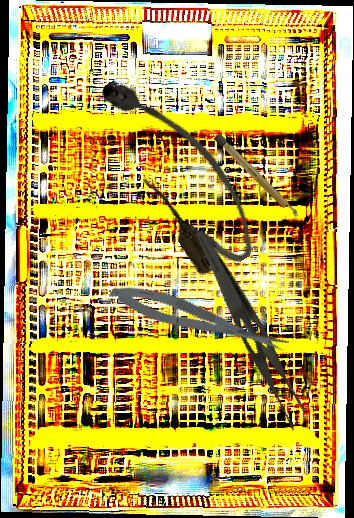Cannula: (87, 56, 270, 284)
Dressing Forceps: (174, 228, 320, 433)
Micro Scissor: (106, 275, 291, 365)
Scalpel Handle: (213, 133, 301, 220)
